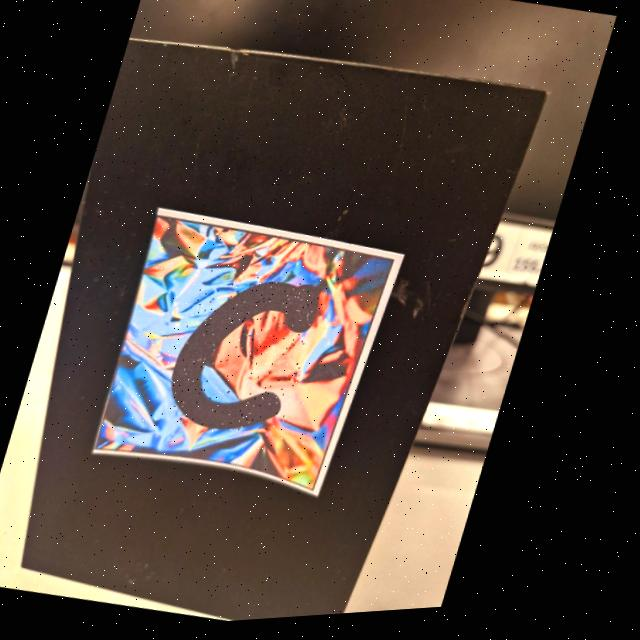C: (180, 286, 328, 433)
